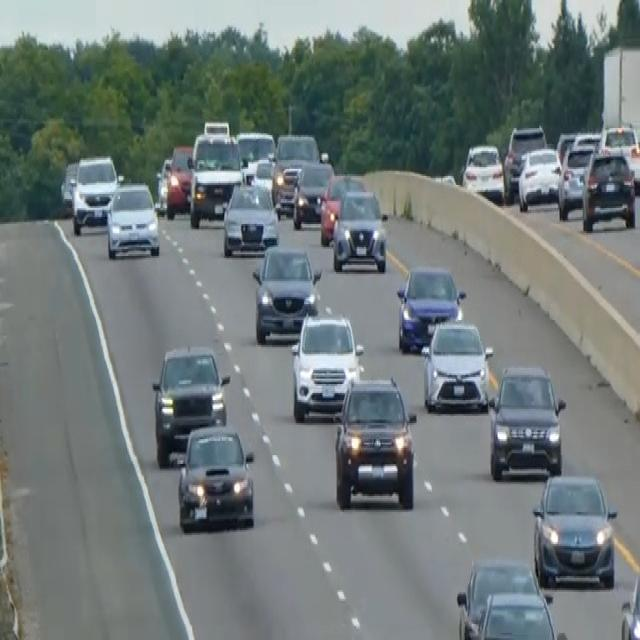car: (531, 471, 617, 589), (151, 341, 230, 464), (487, 361, 566, 480), (455, 555, 563, 638), (176, 422, 255, 532), (290, 308, 364, 422), (251, 242, 321, 343), (421, 316, 493, 412), (396, 261, 465, 352), (331, 187, 388, 272), (581, 148, 636, 231), (105, 178, 160, 260), (222, 178, 279, 256), (271, 130, 319, 215), (71, 153, 119, 233), (318, 171, 366, 245), (557, 138, 598, 218), (503, 123, 546, 199), (291, 156, 334, 230), (517, 144, 561, 212), (598, 121, 639, 190), (461, 140, 505, 202), (235, 128, 275, 181), (164, 144, 193, 217), (619, 558, 639, 638), (59, 158, 78, 214), (154, 154, 172, 212)
jeep: (331, 372, 418, 512), (187, 118, 245, 228)
